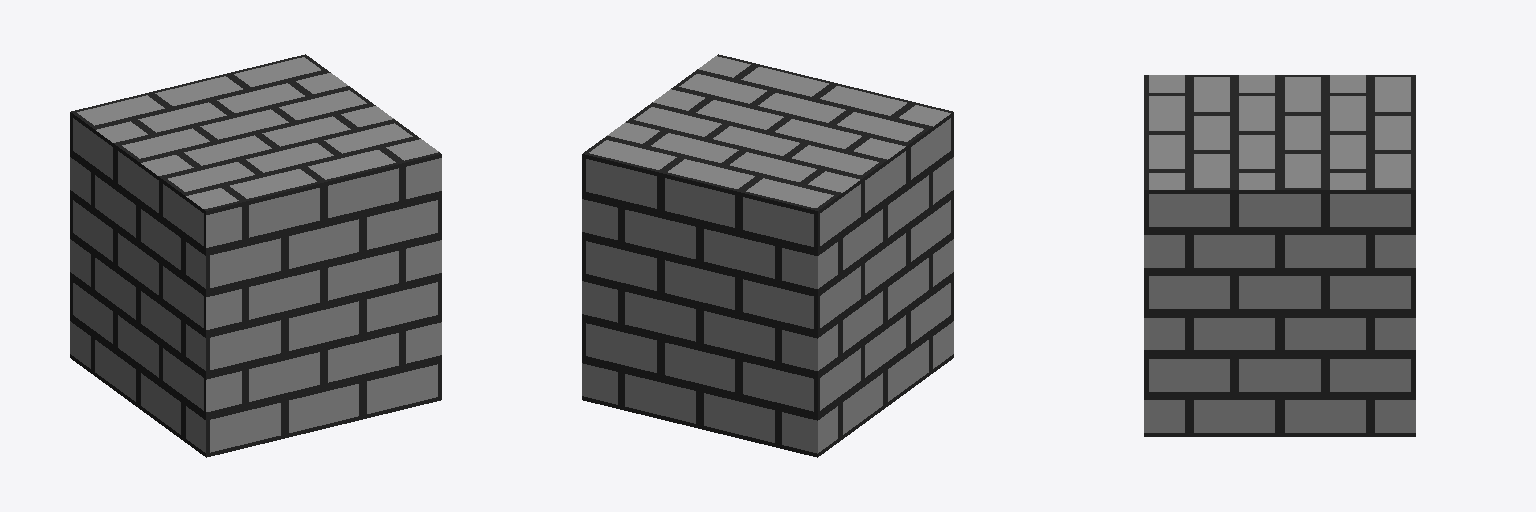
3 views of the same model, side by side, from view 1: azimuth 30°, elevation 25°; view 2: azimuth 150°, elevation 25°; view 3: azimuth 270°, elevation 25° (orthographic).
Parts seen in each view (by area): view 1: Cube_Cube.003; view 2: Cube_Cube.003; view 3: Cube_Cube.003.
Part boxes in pixels (left/top/right/bottom): Cube_Cube.003: left=70, top=54, right=441, bottom=457; Cube_Cube.003: left=582, top=54, right=953, bottom=457; Cube_Cube.003: left=1144, top=75, right=1415, bottom=436.
Bounding box in the file's own units: 1.01 × 1.01 × 1.01.
1 materials, 1 textured.